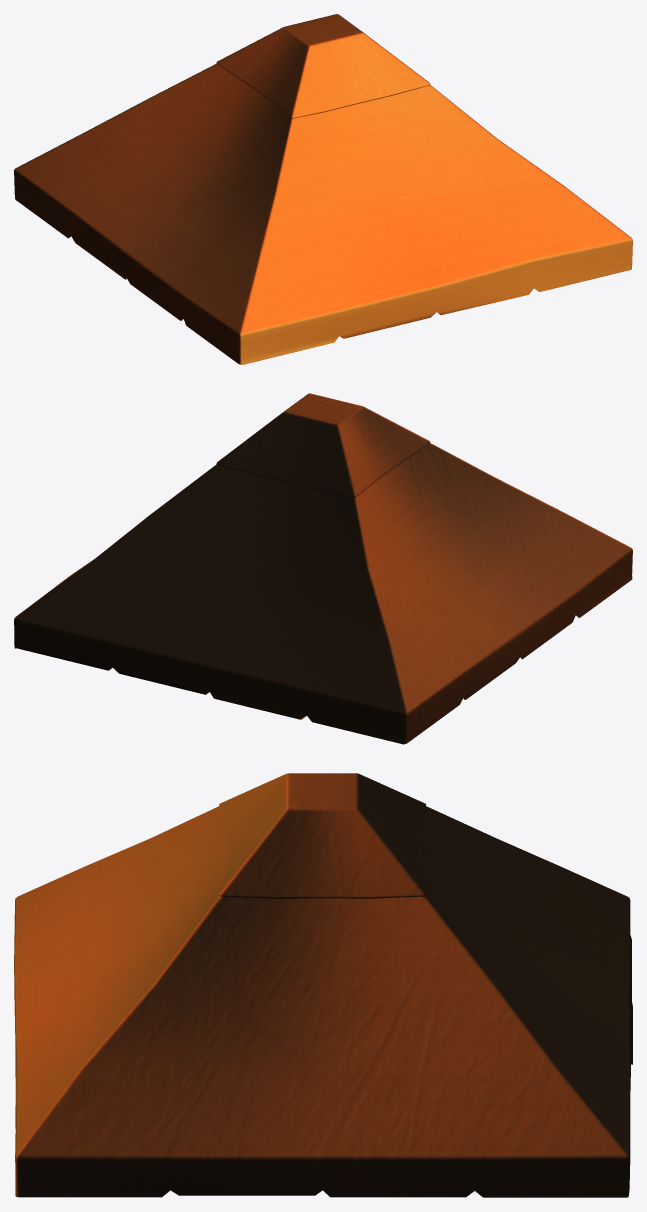
Rendered from tenttop.obj.
The picture shows the model from 3 angles, top to bottom: view 1: azimuth 30°, elevation 25°; view 2: azimuth 150°, elevation 25°; view 3: azimuth 270°, elevation 25°; orthographic projection. The views are drawn at different scales.
Visible parts, largest first — view 1: polySurface45; view 2: polySurface45; view 3: polySurface45.
Part boxes in pixels (x1,y1,x2,y2): polySurface45: [14, 14, 632, 364]; polySurface45: [14, 393, 632, 744]; polySurface45: [14, 773, 632, 1197].
Bounding box in the file's own units: 6.32 × 3.12 × 6.33.
Materials: 1 (1 with a texture image).
